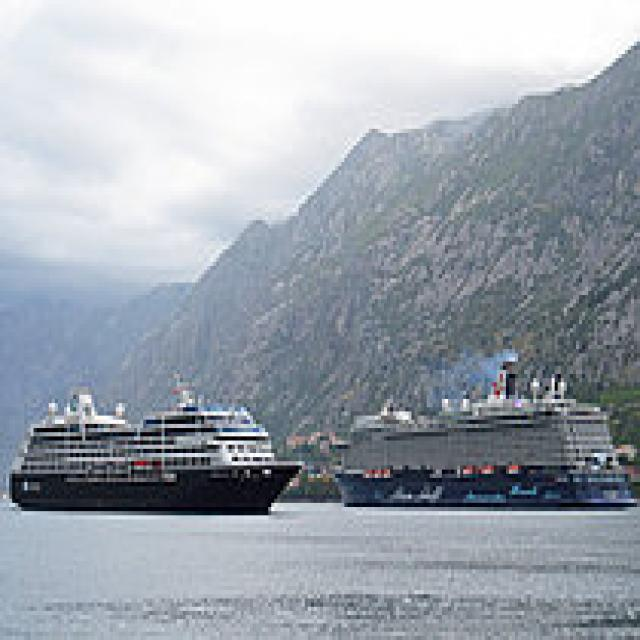Ship: (333, 383, 640, 525), (4, 388, 309, 521)
